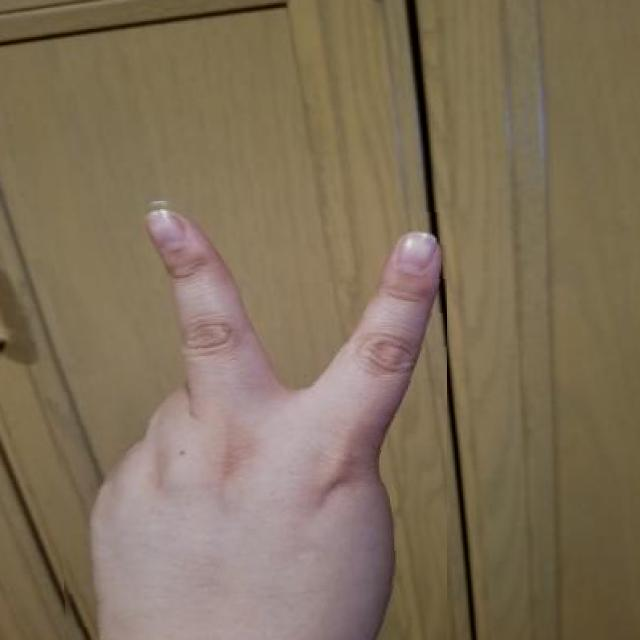V: (53, 194, 447, 640)
